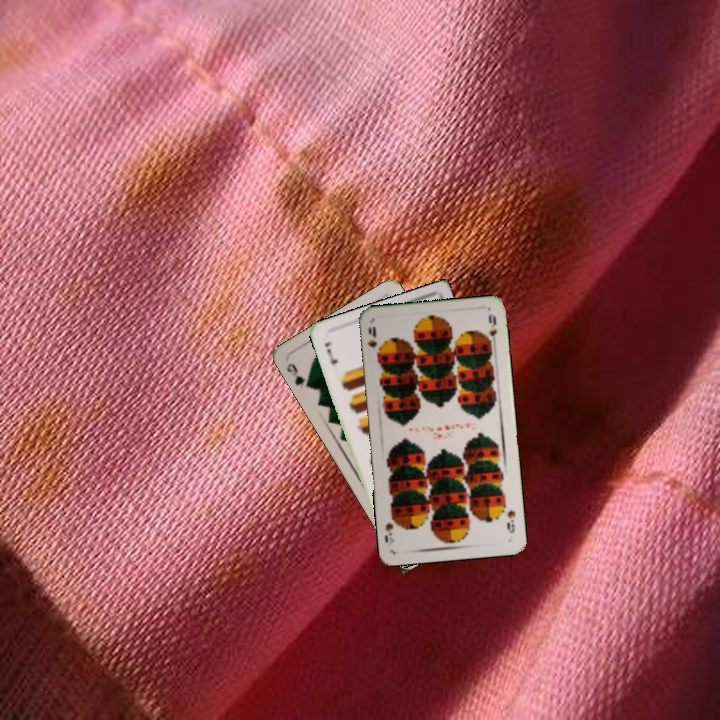E7: (321, 338, 340, 367)
G9: (282, 359, 315, 391)
S9: (364, 322, 384, 361), (503, 506, 518, 535)
